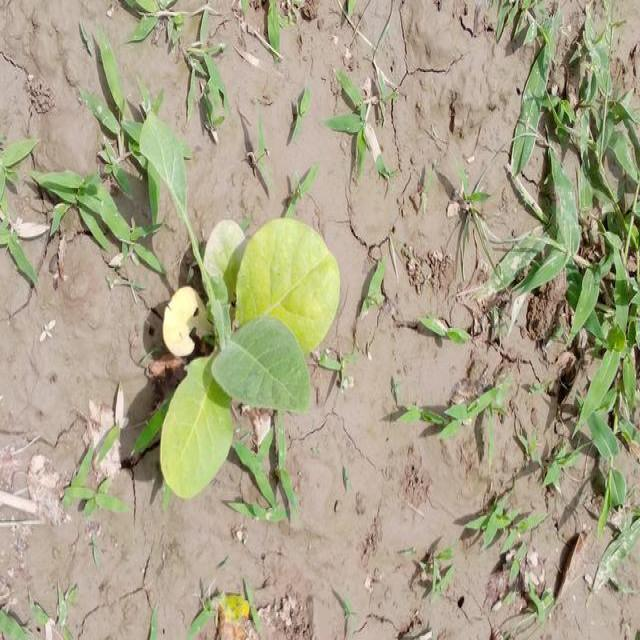crop: (138, 114, 344, 508)
